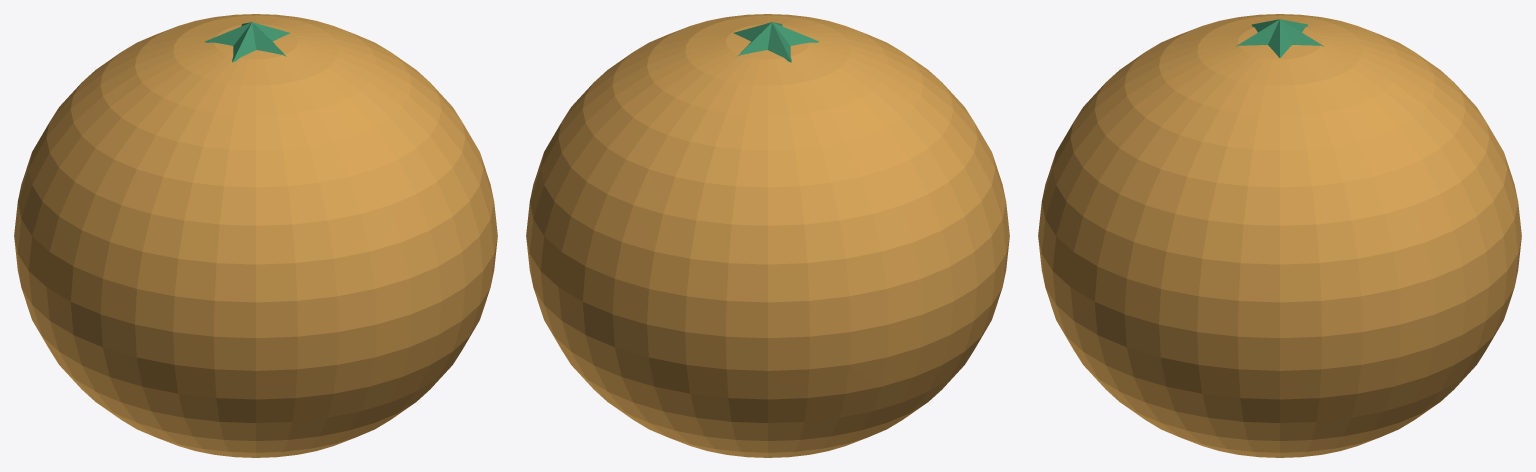
File: frutas-reguladoras.glb
The picture shows the model from 3 angles, left to right: view 1: azimuth 30°, elevation 25°; view 2: azimuth 150°, elevation 25°; view 3: azimuth 270°, elevation 25°; orthographic projection.
Visible parts, largest first — view 1: Mesh_Mesh_head_geo.001_lambert2SG.001; view 2: Mesh_Mesh_head_geo.001_lambert2SG.001; view 3: Mesh_Mesh_head_geo.001_lambert2SG.001.
Boxes of the visible parts, x1=… form: Mesh_Mesh_head_geo.001_lambert2SG.001: x1=14, y1=14, x2=497, y2=457; Mesh_Mesh_head_geo.001_lambert2SG.001: x1=526, y1=14, x2=1009, y2=457; Mesh_Mesh_head_geo.001_lambert2SG.001: x1=1038, y1=14, x2=1521, y2=457.
Bounding box in the file's own units: 20 × 18.8 × 20.
